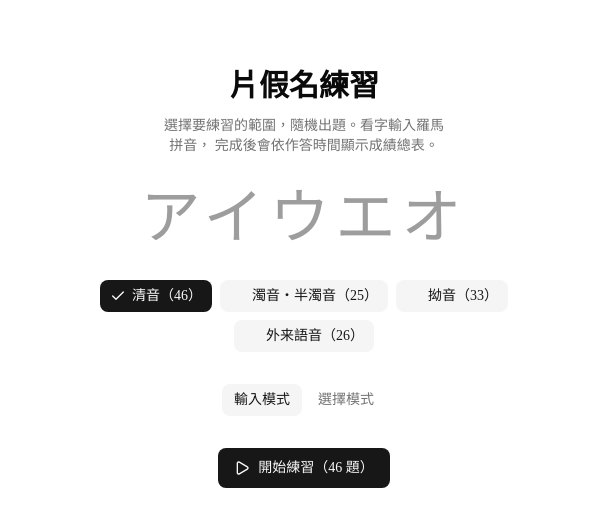
Test case: practice flow › katakana start screen offers the extended set, hiragana does not
Click the button "清音（46）": (156, 296) [100, 280, 212, 312]
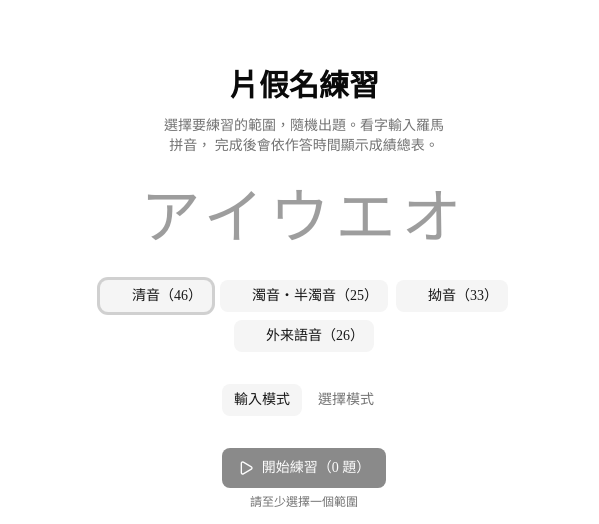
Click the button "外来語音（26）": (304, 336) [234, 320, 374, 352]
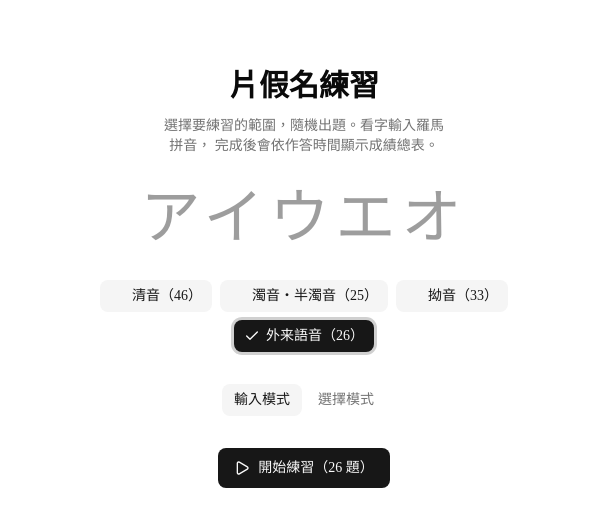
Click the button "開始練習（26 題）": (304, 468) [218, 448, 390, 488]
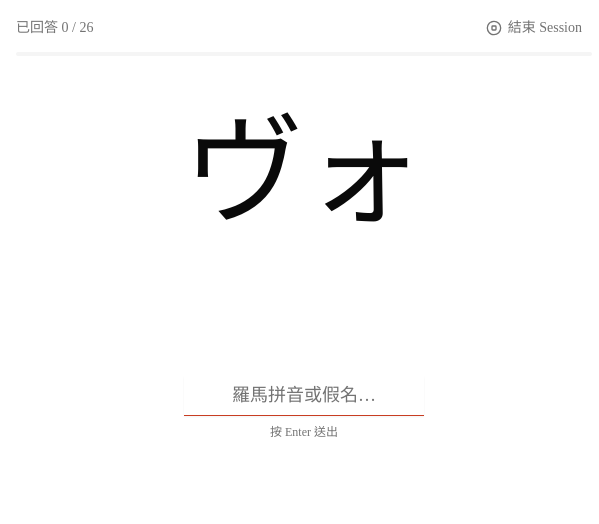
Check: the text "已回答 0 / 26" is shown, box [16, 18, 93, 38]
